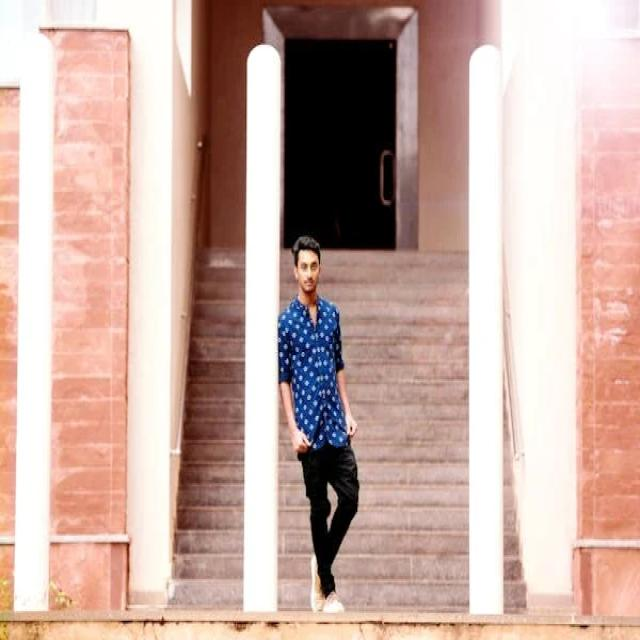Real human 2: (272, 223, 386, 637)
